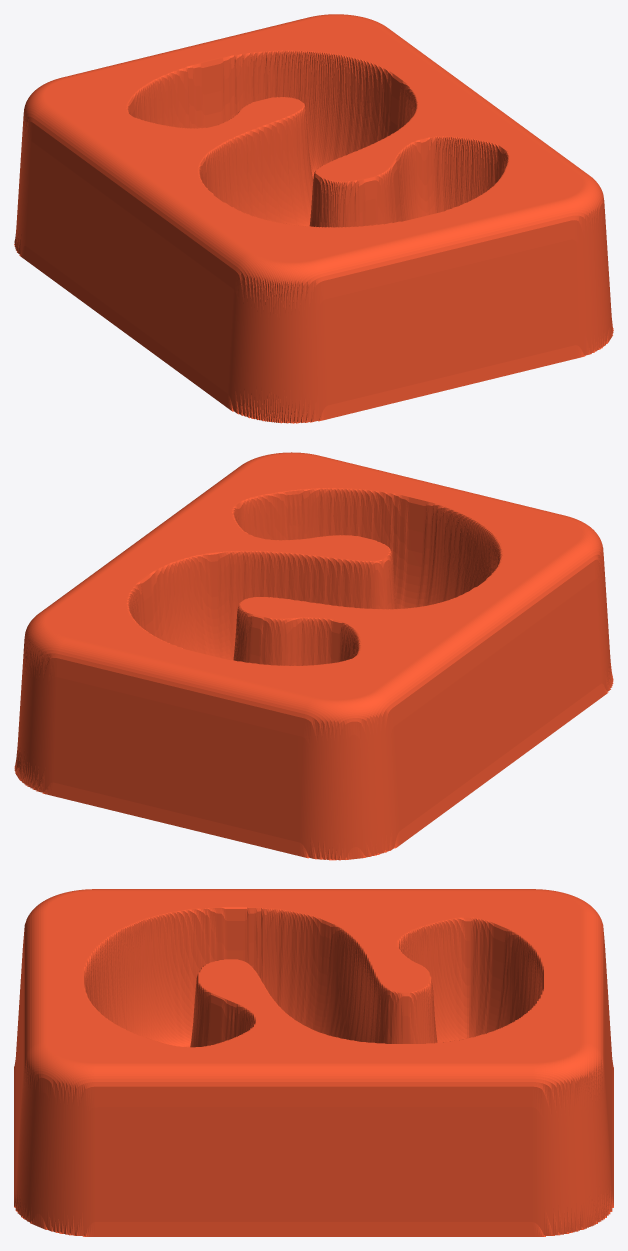
File: mold.glb
The picture shows the model from 3 angles, top to bottom: view 1: azimuth 30°, elevation 25°; view 2: azimuth 150°, elevation 25°; view 3: azimuth 270°, elevation 25°; orthographic projection. The views are drawn at different scales.
Parts seen in each view (by area): view 1: geometry_0; view 2: geometry_0; view 3: geometry_0.
Part boxes in pixels (<box>): geometry_0: <box>14,14,613,423</box>; geometry_0: <box>14,452,613,860</box>; geometry_0: <box>14,889,613,1236</box>.
Bounding box in the file's own units: 0.0526 × 0.0197 × 0.067.
